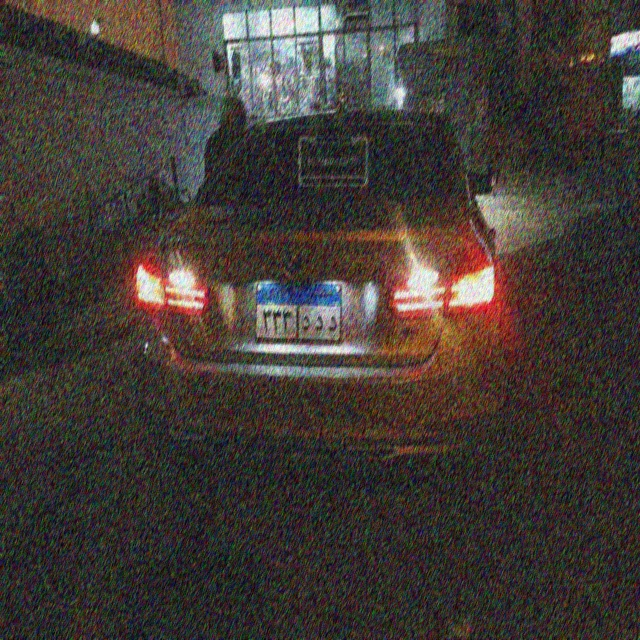License Plate: (251, 277, 344, 344)
